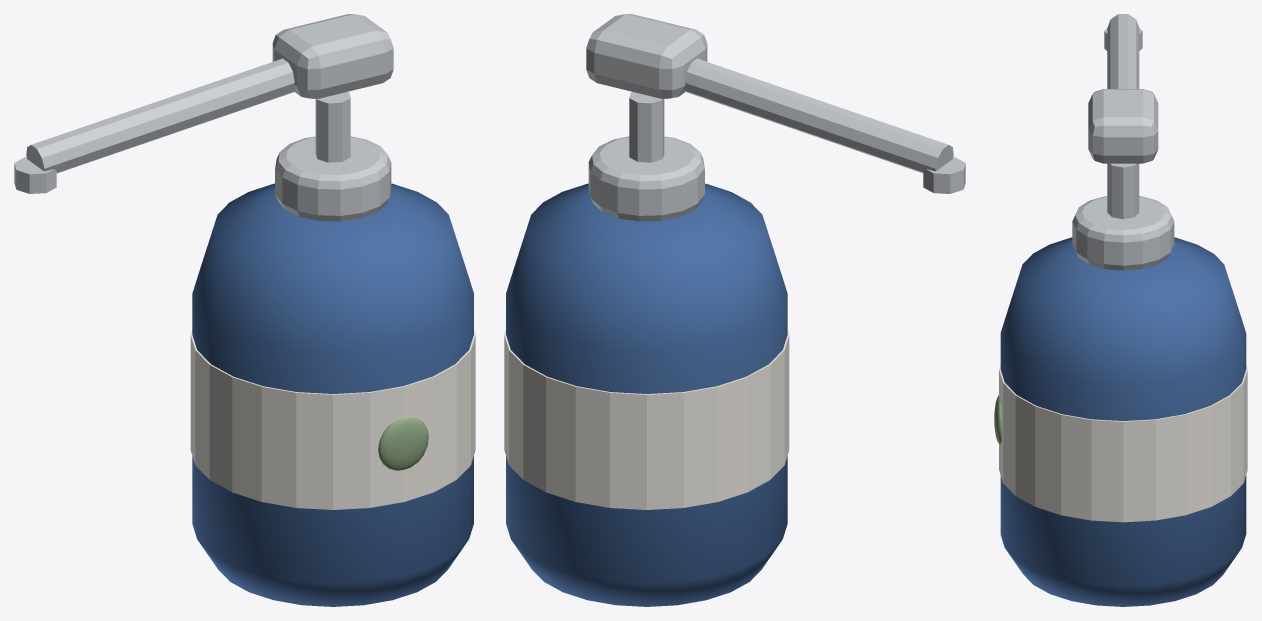
File: hh_cat_soap_dispenser.glb
The picture shows the model from 3 angles, left to right: view 1: azimuth 30°, elevation 25°; view 2: azimuth 150°, elevation 25°; view 3: azimuth 270°, elevation 25°; orthographic projection. The views are drawn at different scales.
Visible parts, largest first — view 1: bottle, label_band, nozzle, pump_collar, pump_head, pump_stem, label_leaf, nozzle_tip; view 2: bottle, label_band, nozzle, pump_collar, pump_head, pump_stem, nozzle_tip; view 3: bottle, label_band, pump_collar, pump_head, nozzle, pump_stem.
Boxes of the visible parts, x1,y1,x2,y2 form: bottle: (192, 183, 473, 606); label_band: (190, 329, 475, 509); nozzle: (26, 58, 295, 173); pump_collar: (275, 136, 391, 221); pump_head: (272, 14, 393, 98); pump_stem: (315, 91, 350, 162); label_leaf: (378, 417, 428, 470); nozzle_tip: (14, 157, 56, 193); bottle: (506, 183, 787, 606); label_band: (504, 329, 789, 509); nozzle: (684, 58, 953, 173); pump_collar: (588, 136, 704, 221); pump_head: (586, 14, 707, 98); pump_stem: (629, 91, 664, 162); nozzle_tip: (923, 157, 965, 193); bottle: (1000, 237, 1246, 606); label_band: (999, 364, 1247, 522); pump_collar: (1072, 196, 1174, 270); pump_head: (1088, 89, 1158, 163); nozzle: (1107, 14, 1139, 88); pump_stem: (1107, 163, 1139, 219).
Size of the model in its own units: 0.14 by 0.16 by 0.08.
